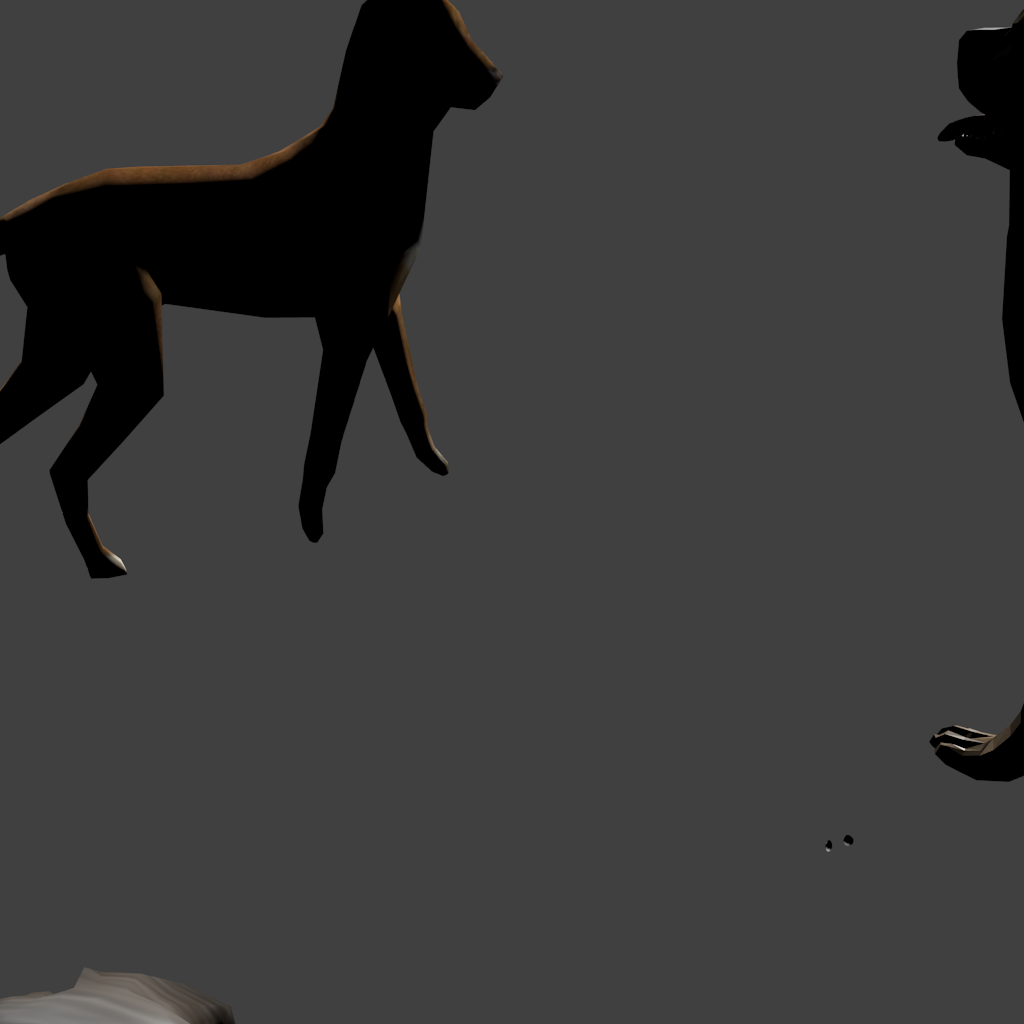Dog: (0, 0, 503, 579)
